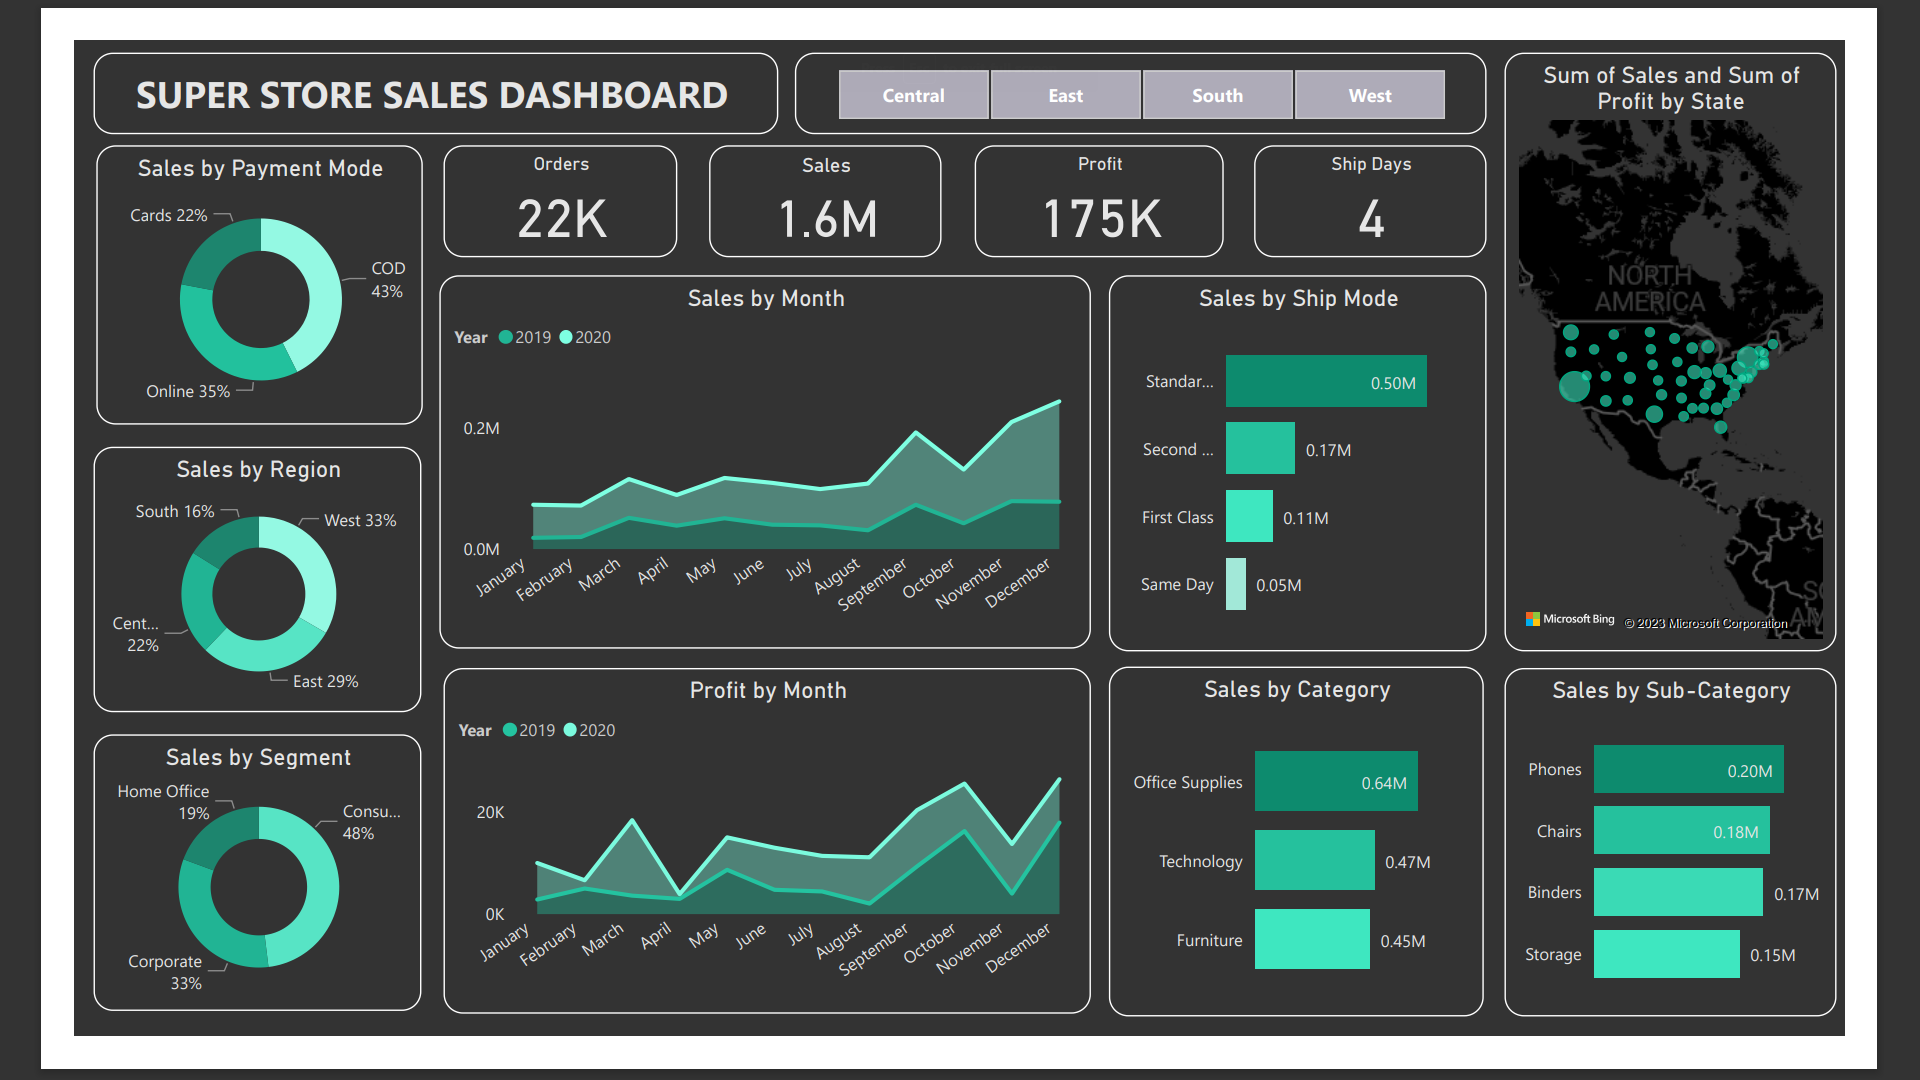

This screenshot's page, from the dashboard's own definition file:
{"tool":"powerbi","page":{"name":"Page 1","canvas":[1280,720],"ordinal":0},"visuals":[{"type":"clusteredBarChart","title":"Sales by Category","fields":{"Category":["SuperStore_Sales_Dataset.Category"],"Y":["Sum(SuperStore_Sales_Dataset.Sales)"]},"box":[748.3,452.5,271,253.3],"z":0},{"type":"clusteredBarChart","title":"Sales by Sub-Category","fields":{"Category":["SuperStore_Sales_Dataset.Sub-Category"],"Y":["Sum(SuperStore_Sales_Dataset.Sales)"]},"box":[1034.4,454.3,239.1,251.5],"z":1000},{"type":"clusteredBarChart","title":"Sales by Ship Mode","fields":{"Category":["SuperStore_Sales_Dataset.Ship Mode"],"Y":["Sum(SuperStore_Sales_Dataset.Sales)"]},"box":[748.3,170,272.8,271.9],"z":2000},{"type":"stackedAreaChart","title":"Sales by Month","fields":{"Y":["Sum(SuperStore_Sales_Dataset.Sales)"],"Category":["SuperStore_Sales_Dataset.Order Date.Variation.Date Hierarchy.Month","SuperStore_Sales_Dataset.Order Date.Variation.Date Hierarchy.Day"],"Series":["SuperStore_Sales_Dataset.Order Date.Variation.Date Hierarchy.Year"]},"box":[263.9,170,471.1,270.1],"z":3000},{"type":"stackedAreaChart","title":"Profit by Month","fields":{"Category":["SuperStore_Sales_Dataset.Order Date.Variation.Date Hierarchy.Month","SuperStore_Sales_Dataset.Order Date.Variation.Date Hierarchy.Day"],"Series":["SuperStore_Sales_Dataset.Order Date.Variation.Date Hierarchy.Year"],"Y":["Sum(SuperStore_Sales_Dataset.Profit)"]},"box":[267.5,454.3,467.6,249.7],"z":4000},{"type":"map","fields":{"Category":["SuperStore_Sales_Dataset.State"],"Size":["Sum(SuperStore_Sales_Dataset.Sales)"]},"box":[1034.4,8.9,239.1,433.1],"z":5000},{"type":"donutChart","title":"Sales by Segment","fields":{"Category":["SuperStore_Sales_Dataset.Segment"],"Y":["Sum(SuperStore_Sales_Dataset.Sales)"]},"box":[14.2,502.1,236.5,200.1],"z":6000},{"type":"donutChart","title":"Sales by Payment Mode","fields":{"Category":["SuperStore_Sales_Dataset.Payment Mode"],"Y":["Sum(SuperStore_Sales_Dataset.Sales)"]},"box":[15.9,76.2,236.5,201.9],"z":7000},{"type":"slicer","fields":{"Values":["SuperStore_Sales_Dataset.Region"]},"box":[520.7,8.9,500.4,59.3],"z":8000},{"type":"textbox","box":[14.2,8.9,495.1,59.3],"z":9000},{"type":"card","title":"Sales","fields":{"Values":["Sum(SuperStore_Sales_Dataset.Sales)"]},"box":[458.7,76.2,168.3,80.6],"z":10000},{"type":"card","title":"Orders","fields":{"Values":["Sum(SuperStore_Sales_Dataset.Quantity)"]},"box":[267.5,76.2,168.3,80.6],"z":11000},{"type":"card","title":"Profit","fields":{"Values":["Sum(SuperStore_Sales_Dataset.Profit)"]},"box":[650.9,76.2,179.8,80.6],"z":12000},{"type":"card","title":"Ship Days","fields":{"Values":["Avg(SuperStore_Sales_Dataset.AvgDelivery)"]},"box":[852.8,76.2,168.3,80.6],"z":13000},{"type":"donutChart","title":"Sales by Region","fields":{"Category":["SuperStore_Sales_Dataset.Region"],"Y":["Sum(SuperStore_Sales_Dataset.Sales)"]},"box":[14.2,294,236.5,192.2],"z":14001}]}

Visuals, with their boxes in screenshot pixels (x1, y1, x2, y2), scaled from the page's 1280x720 canvas onto the 1920x1080 screenshot:
"Sales by Category" clusteredBarChart: [left=1122, top=679, right=1529, bottom=1059]
"Sales by Sub-Category" clusteredBarChart: [left=1552, top=681, right=1910, bottom=1059]
"Sales by Ship Mode" clusteredBarChart: [left=1122, top=255, right=1532, bottom=663]
"Sales by Month" stackedAreaChart: [left=396, top=255, right=1102, bottom=660]
"Profit by Month" stackedAreaChart: [left=401, top=681, right=1103, bottom=1056]
map - SuperStore_Sales_Dataset.State x Sum(SuperStore_Sales_Dataset.Sales): [left=1552, top=13, right=1910, bottom=663]
"Sales by Segment" donutChart: [left=21, top=753, right=376, bottom=1053]
"Sales by Payment Mode" donutChart: [left=24, top=114, right=379, bottom=417]
slicer - SuperStore_Sales_Dataset.Region: [left=781, top=13, right=1532, bottom=102]
textbox: [left=21, top=13, right=764, bottom=102]
"Sales" card: [left=688, top=114, right=940, bottom=235]
"Orders" card: [left=401, top=114, right=654, bottom=235]
"Profit" card: [left=976, top=114, right=1246, bottom=235]
"Ship Days" card: [left=1279, top=114, right=1532, bottom=235]
"Sales by Region" donutChart: [left=21, top=441, right=376, bottom=729]
